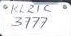character: (11, 16, 22, 27), (31, 16, 40, 29), (42, 3, 53, 13), (23, 16, 31, 29), (39, 16, 47, 29), (10, 3, 18, 13), (27, 4, 34, 13), (18, 3, 24, 13), (35, 4, 40, 13)
